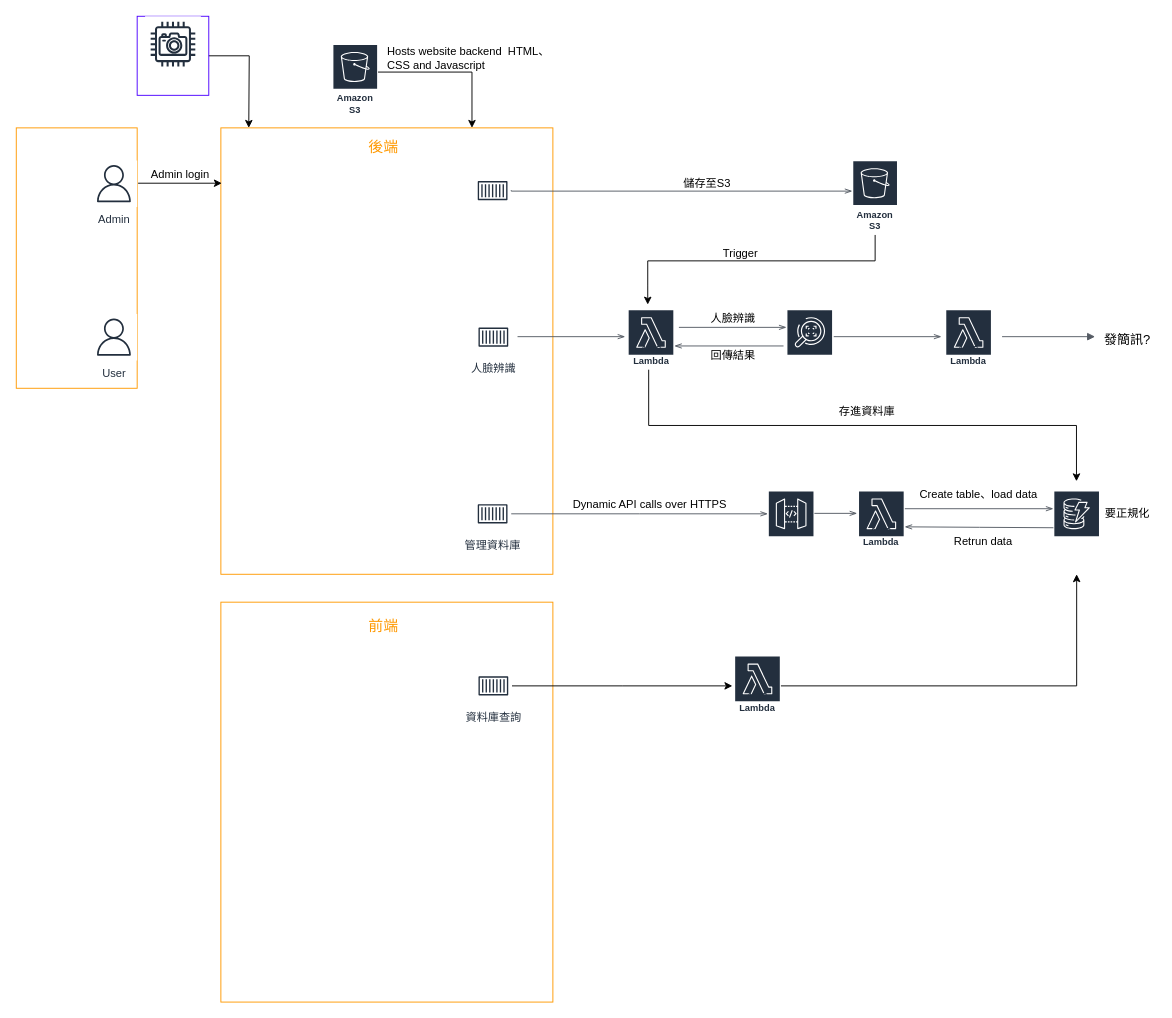
The diagram is 1172 pixels wide and 1018 high, and some of its shapes have lost their labels. The box of each missing label's shape, as (x1, y1, x2, y2) in pixels:
Amazon API Gateway: (767, 490, 814, 574)
Amazon DynamoDB: (1052, 490, 1100, 574)
Amazon Rekognition: (786, 308, 833, 384)
Camera: (144, 15, 201, 72)
Login page: (15, 127, 137, 388)
上傳照片、影片: (473, 171, 511, 209)
